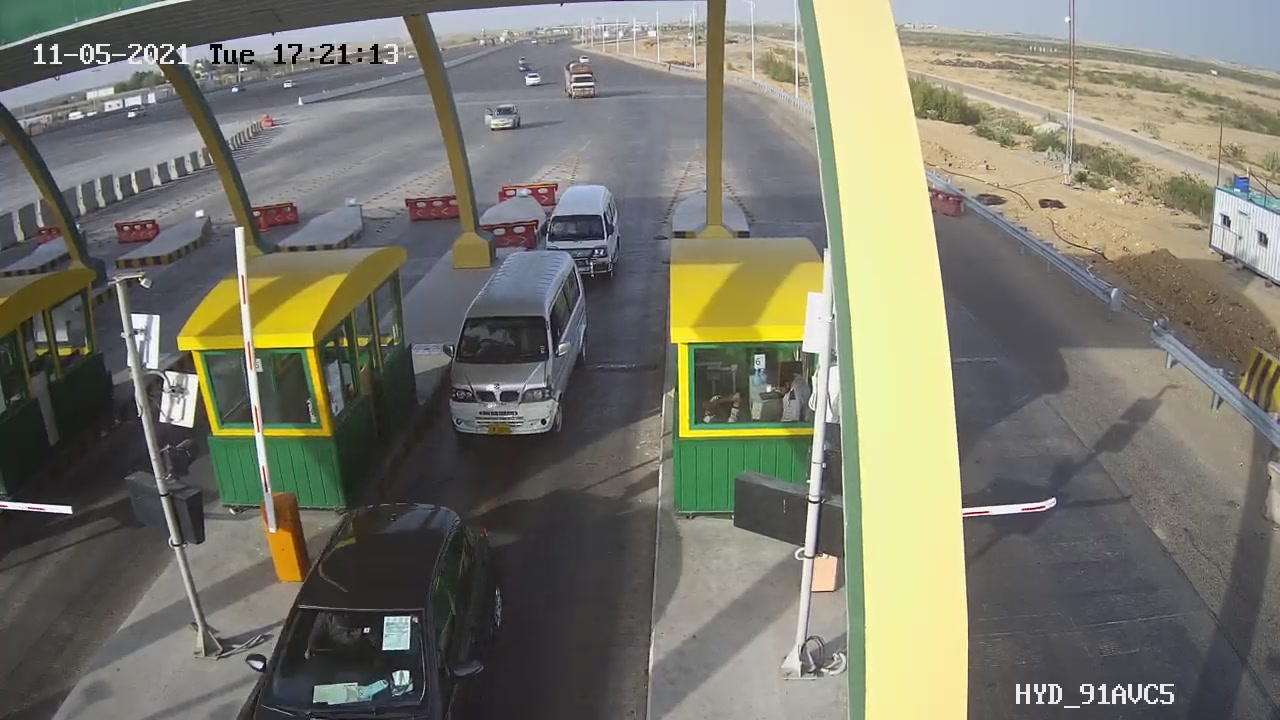F1: (530, 174, 633, 300)
